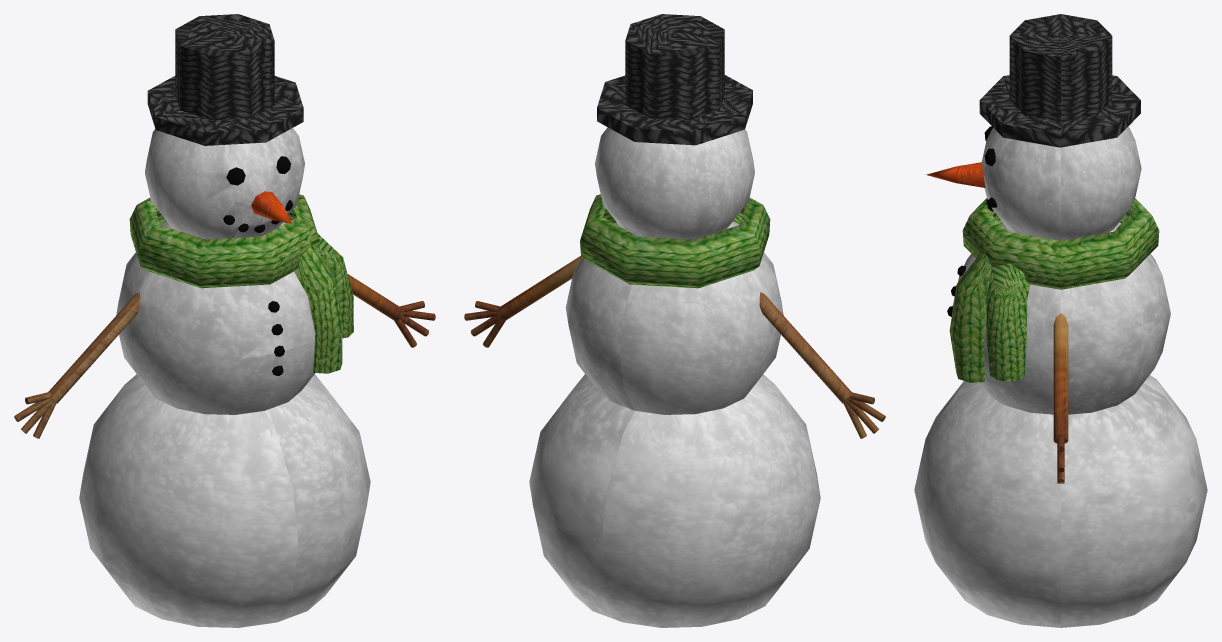
The model's file is Snowman 1.FBX.
The picture shows the model from 3 angles, left to right: view 1: azimuth 30°, elevation 25°; view 2: azimuth 150°, elevation 25°; view 3: azimuth 270°, elevation 25°; orthographic projection.
Parts seen in each view (by area): view 1: Snowman, Head, Scarf; view 2: Snowman, Head, Scarf; view 3: Snowman, Scarf, Head.
Boxes of the visible parts, left/top/right/bottom form: Snowman: left=14, top=128, right=435, bottom=627; Head: left=147, top=14, right=303, bottom=145; Scarf: left=129, top=194, right=353, bottom=373; Snowman: left=464, top=127, right=885, bottom=627; Head: left=597, top=14, right=752, bottom=145; Scarf: left=580, top=194, right=770, bottom=288; Snowman: left=914, top=126, right=1207, bottom=627; Scarf: left=949, top=198, right=1159, bottom=382; Head: left=979, top=14, right=1140, bottom=147.
Size of the model in its own units: 65.93 by 82.5 by 40.
1 material, 1 textured.
